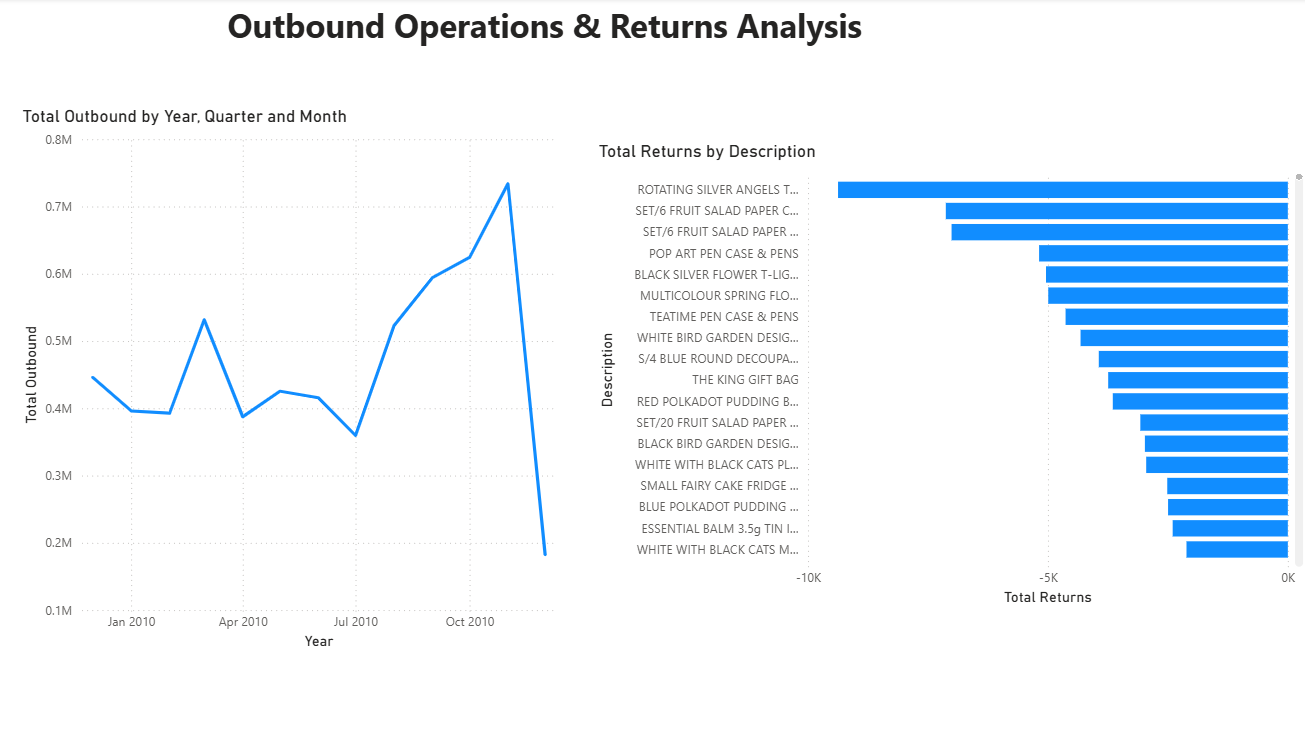

The dashboard page shown, as its layout file describes it:
{"tool":"powerbi","page":{"name":"Outbound & Returns","canvas":[1280,720],"ordinal":2},"visuals":[{"type":"lineChart","fields":{"Category":["sales.InvoiceDate.Variation.Date Hierarchy.Year","sales.InvoiceDate.Variation.Date Hierarchy.Quarter","sales.InvoiceDate.Variation.Date Hierarchy.Month","sales.InvoiceDate.Variation.Date Hierarchy.Day"],"Y":["sales.Total Outbound"]},"box":[17.1,105.7,545.4,537.6],"z":0},{"type":"clusteredBarChart","fields":{"Category":["sales.Description"],"Y":["sales.Total Returns"]},"box":[581.1,139.8,699.2,459.9],"z":1000},{"type":"textbox","box":[0,0,1065.9,73],"z":2000}]}

Visuals, with their boxes in screenshot pixels (x1, y1, x2, y2), scaled from the page's 1280x720 canvas onto the 1305x732 screenshot:
lineChart - sales.InvoiceDate.Variation.Date Hierarchy.Year x sales.InvoiceDate.Variation.Date Hierarchy.Quarter: 17 107 573 654
clusteredBarChart - sales.Description x sales.Total Returns: 592 142 1304 610
textbox: 0 0 1087 74
